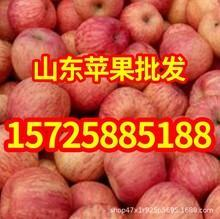apple: (1, 166, 72, 219), (103, 150, 168, 202), (10, 27, 67, 80), (9, 78, 71, 121), (161, 30, 213, 81), (136, 182, 201, 219), (169, 151, 220, 198), (75, 16, 129, 54), (185, 95, 220, 153), (97, 86, 158, 119), (120, 2, 164, 45), (7, 1, 57, 33), (199, 7, 220, 56), (73, 1, 122, 20), (55, 1, 82, 33), (202, 185, 220, 219)
